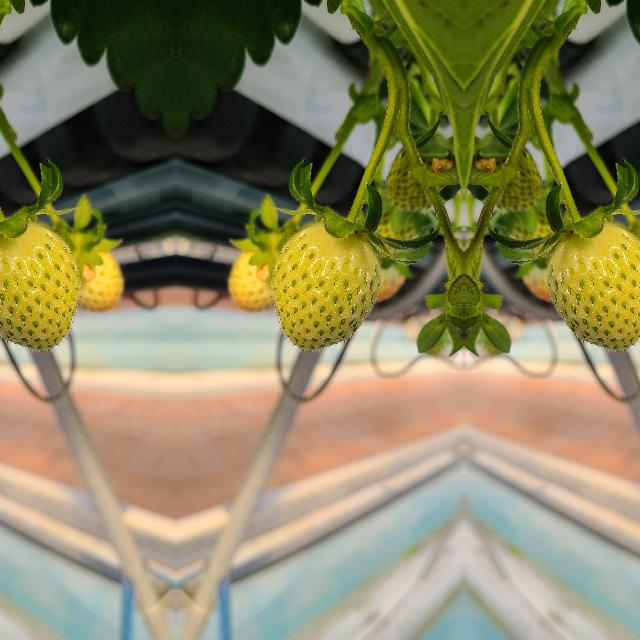Health_25: (270, 221, 380, 349), (546, 221, 640, 349), (0, 221, 79, 349)
